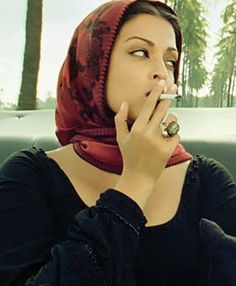cigarette: (146, 85, 191, 109)
